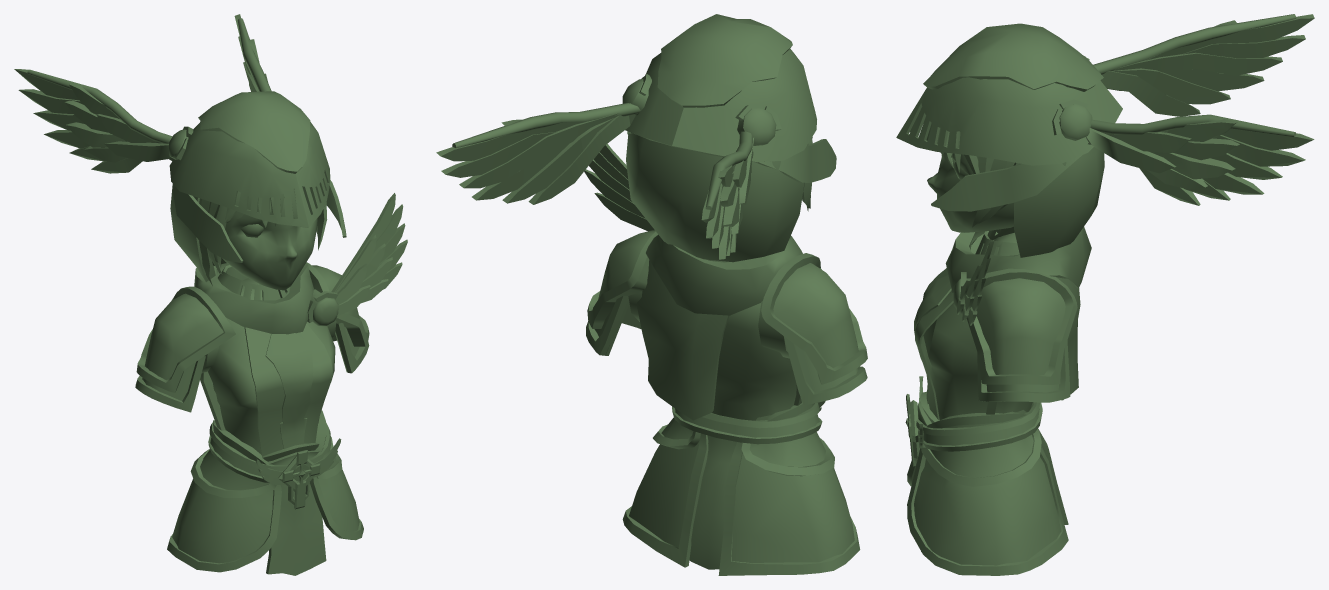
File: Fear_Character.fbx
3 renders of one model, left to right at view 1: azimuth 30°, elevation 25°; view 2: azimuth 150°, elevation 25°; view 3: azimuth 270°, elevation 25°, orthographic. The views are drawn at different scales.
Visible parts, largest first — view 1: Body, Helm, Head; view 2: Body, Helm, Head; view 3: Helm, Body, Head.
Boxes of the visible parts, box(x1,y1,x2,y2) form: Body: box(135, 193, 407, 575); Helm: box(14, 14, 346, 262); Head: box(170, 183, 327, 290); Body: box(584, 144, 867, 575); Helm: box(436, 14, 836, 259); Head: box(626, 133, 812, 262); Helm: box(896, 14, 1314, 211); Body: box(905, 226, 1091, 575); Head: box(926, 123, 1104, 257).
Bounding box in the file's own units: 93.76 × 161 × 119.
